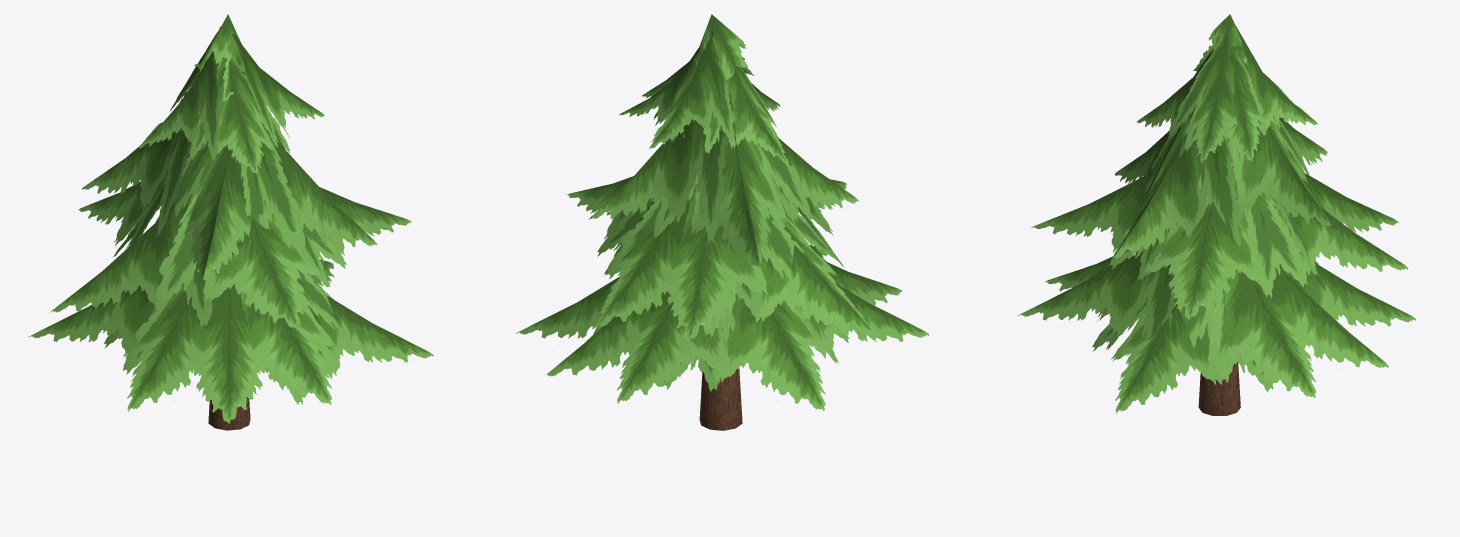
File: tree_lods.fbx
3 renders of one model, left to right at view 1: azimuth 30°, elevation 25°; view 2: azimuth 150°, elevation 25°; view 3: azimuth 270°, elevation 25°, orthographic. The views are drawn at different scales.
Parts seen in each view (by area): view 1: Tree_1_LOD0; view 2: Tree_1_LOD0; view 3: Tree_1_LOD0.
Part boxes in pixels (<box>): Tree_1_LOD0: <box>28,14,433,430</box>; Tree_1_LOD0: <box>516,14,928,430</box>; Tree_1_LOD0: <box>1018,14,1415,415</box>.
Size of what is drawn, in the model's own units: 1362 by 1360 by 1362.
